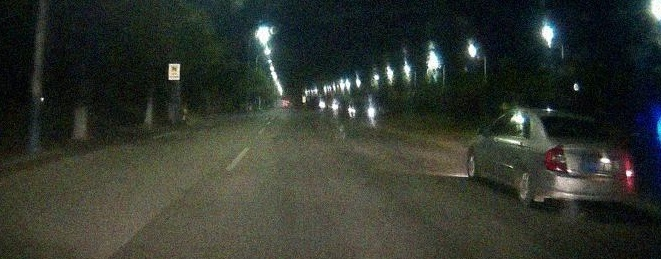L_light: (543, 146, 569, 174)
R_light: (617, 152, 635, 180)
T_light: (569, 117, 588, 123)
night-right: (533, 109, 636, 213)
